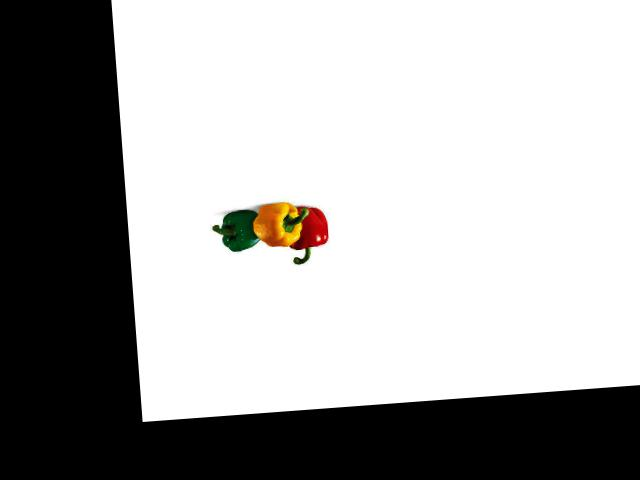bell_pepper: (212, 204, 266, 256)
